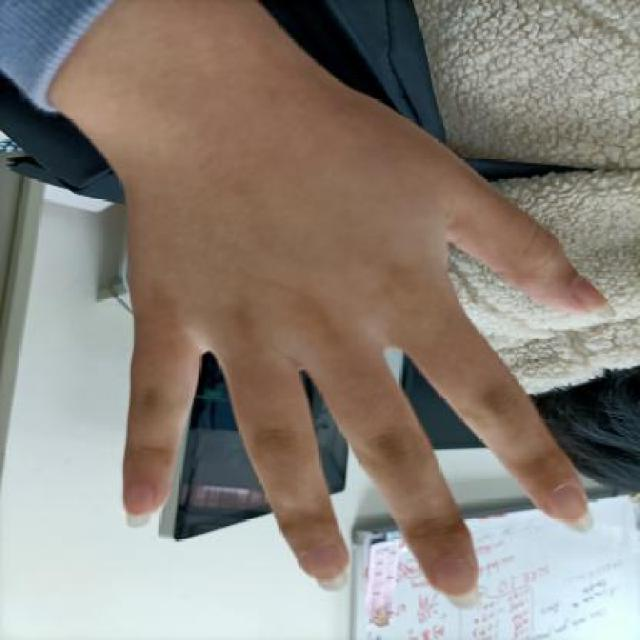bare_hand: (49, 22, 631, 628)
